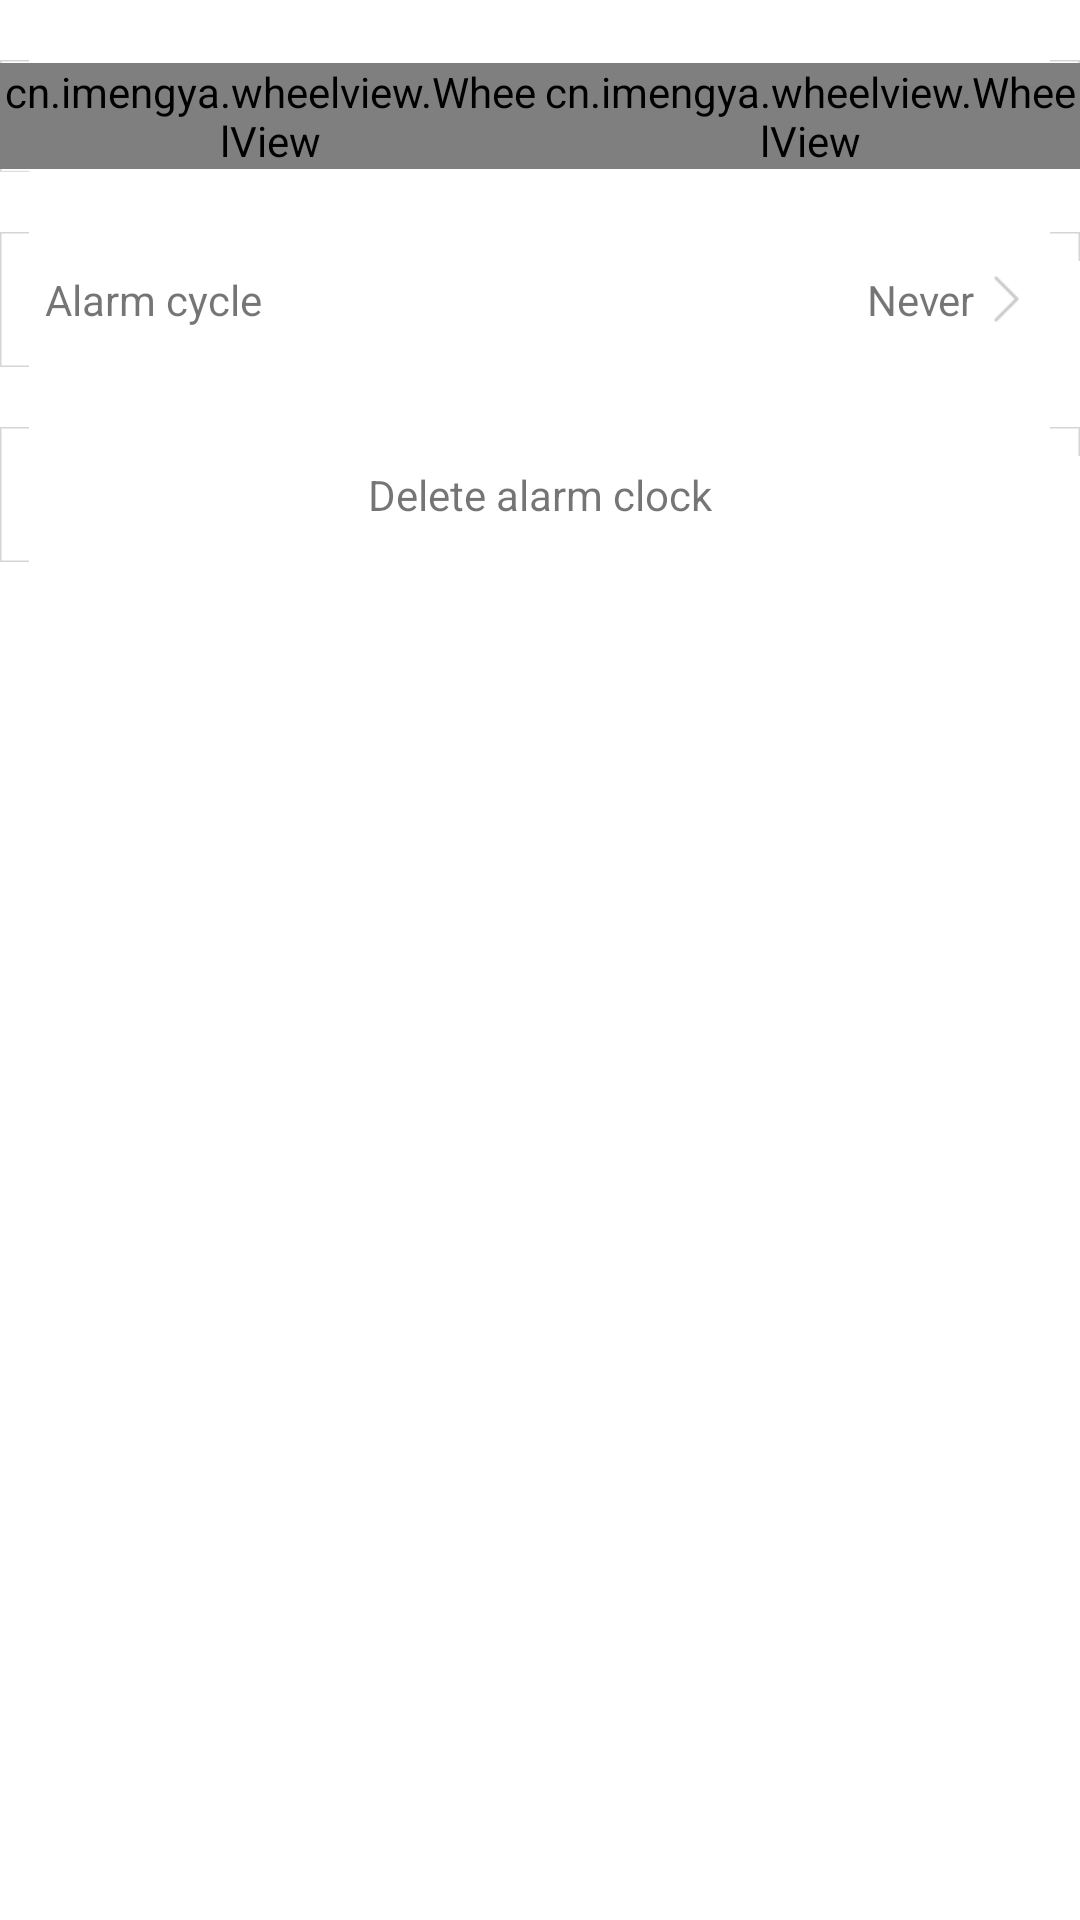

Icons on this 1080w x 1920h Android screen, each with its box as (x1, y1, x2, y2):
arrow next: (995, 277, 1018, 321)
